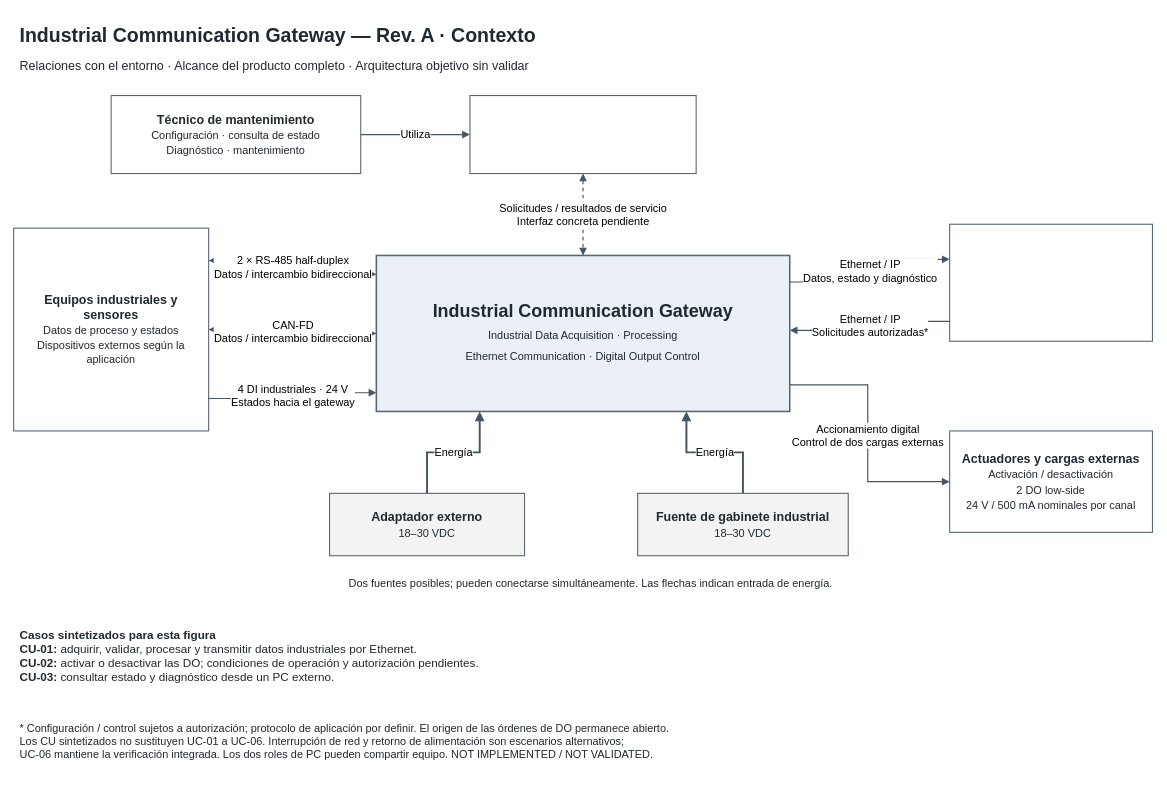
Some shapes in this 1167 by 795 pixel diagram are drawn without their labels. Here are the shapes that lost their labels. From the top down, the centre of each, then its label:
At (582,134): "PC externo de mantenimiento Medio de acceso y permisos por especificar".
At (1051,282): "PC / servidor / SCADA Recepción de datos industriales Supervisión y diagnóstico".
